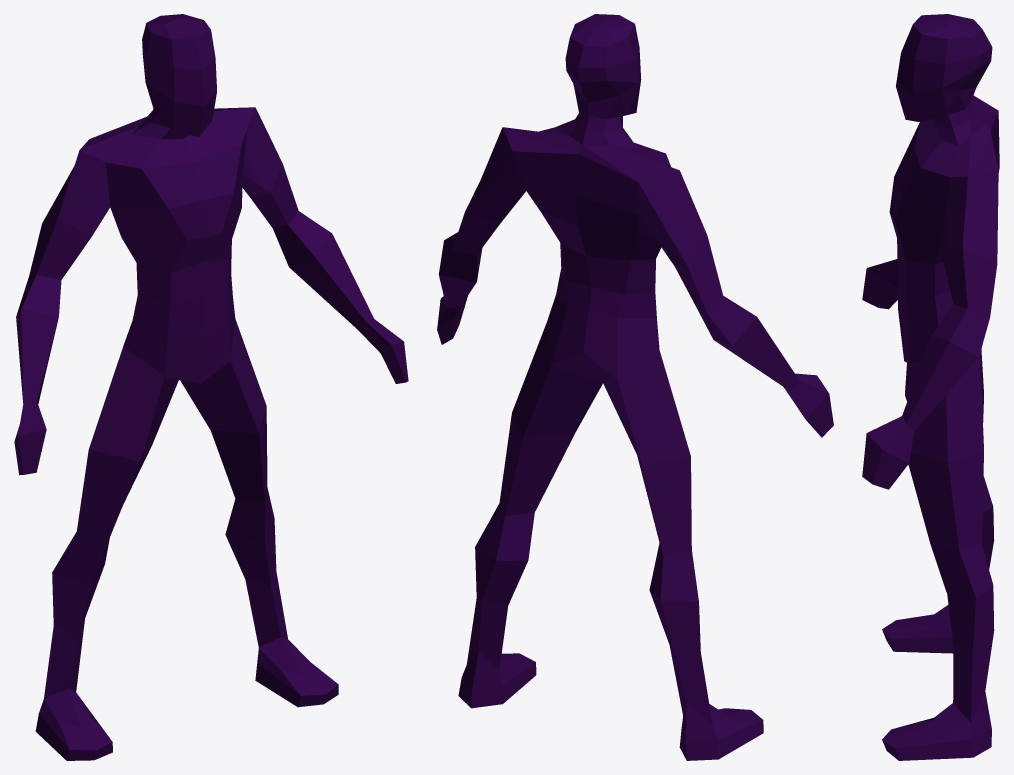
Rendered from Enemy_FBX.fbx.
3 views of the same model, side by side, from view 1: azimuth 30°, elevation 25°; view 2: azimuth 150°, elevation 25°; view 3: azimuth 270°, elevation 25° (orthographic). The views are drawn at different scales.
Parts seen in each view (by area): view 1: BASE_Low_Poly_Man_0; view 2: BASE_Low_Poly_Man_0; view 3: BASE_Low_Poly_Man_0.
Part boxes in pixels (x1,y1,x2,y2): BASE_Low_Poly_Man_0: [14, 14, 408, 760]; BASE_Low_Poly_Man_0: [437, 14, 833, 760]; BASE_Low_Poly_Man_0: [862, 14, 999, 760].
Bounding box in the file's own units: 176 × 300 × 55.24.
